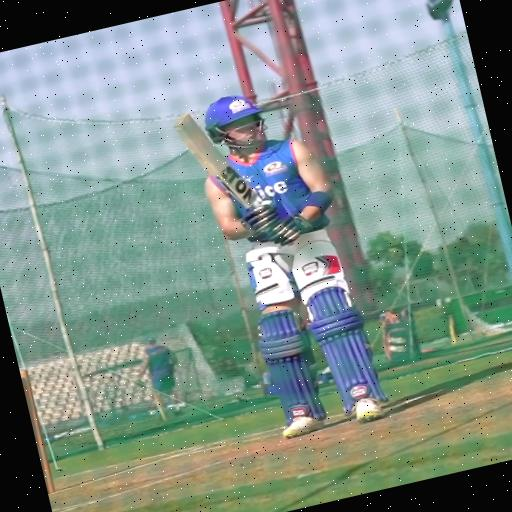Cricket bat: (175, 114, 261, 208)
